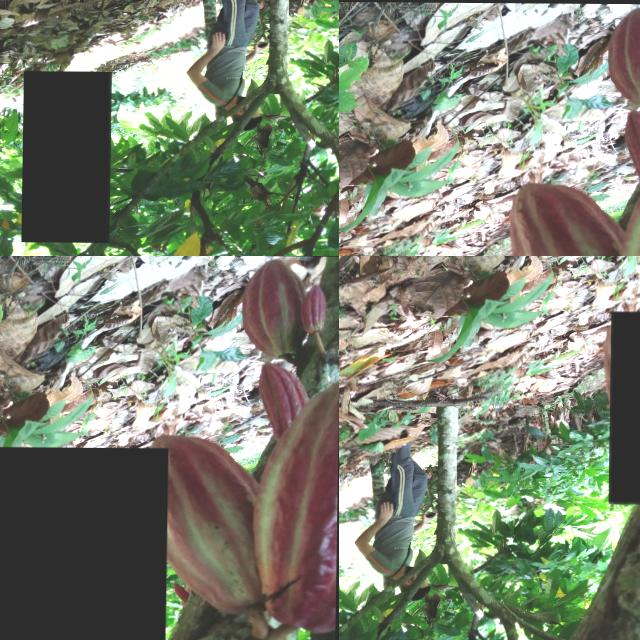Monilia: (0, 446, 169, 640), (23, 71, 113, 243)
Sana: (609, 311, 640, 503)
